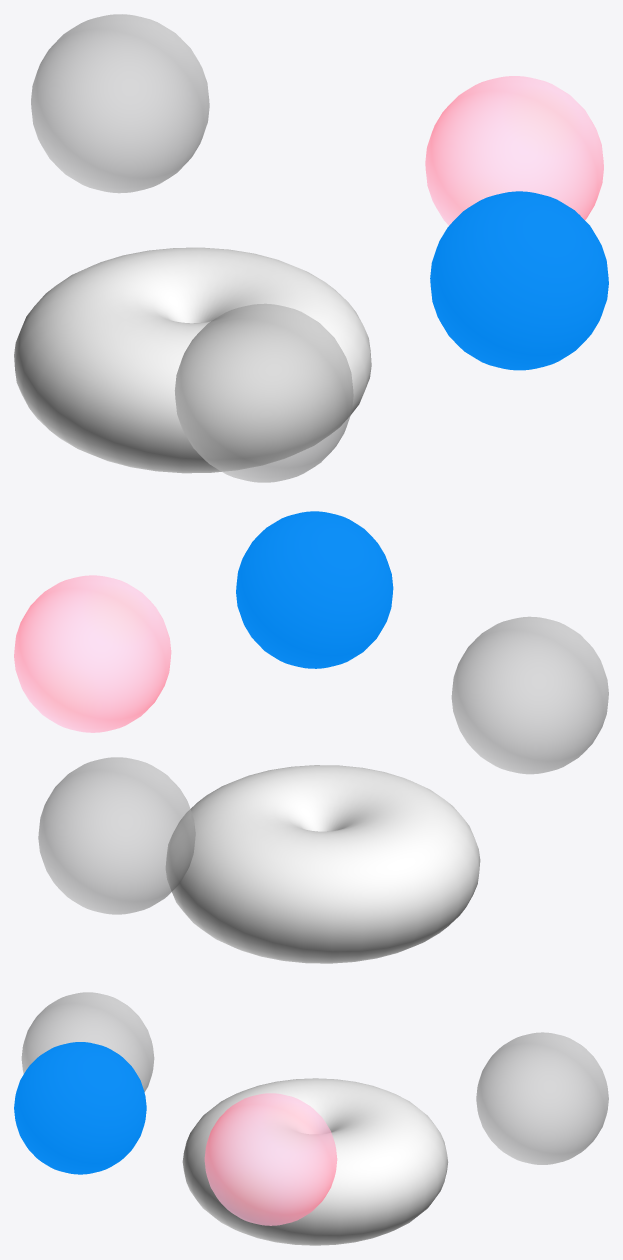
Rendered from glbtest02_02.glb.
3 renders of one model, top to bottom at view 1: azimuth 30°, elevation 25°; view 2: azimuth 150°, elevation 25°; view 3: azimuth 270°, elevation 25°, orthographic. The views are drawn at different scales.
Parts seen in each view (by area): view 1: Torus, Sphere.001, Sphere.002, Sphere.003, Sphere; view 2: Torus, Sphere.001, Sphere.003, Sphere, Sphere.002; view 3: Torus, Sphere.001, Sphere, Sphere.003, Sphere.002.
Boxes of the visible parts, x1,y1,x2,y2 form: Torus: (14, 247, 371, 473); Sphere.001: (430, 191, 608, 370); Sphere.002: (175, 303, 353, 482); Sphere.003: (31, 14, 209, 193); Sphere: (425, 76, 603, 225); Torus: (166, 765, 480, 963); Sphere.001: (236, 511, 393, 668); Sphere.003: (38, 757, 195, 914); Sphere: (14, 575, 171, 732); Sphere.002: (451, 616, 608, 774); Torus: (182, 1078, 448, 1245); Sphere.001: (14, 1042, 146, 1174); Sphere: (204, 1093, 337, 1225); Sphere.003: (476, 1032, 608, 1164); Sphere.002: (21, 992, 154, 1091).
Bounding box in the file's own units: 6.82 × 3.7 × 8.96.
